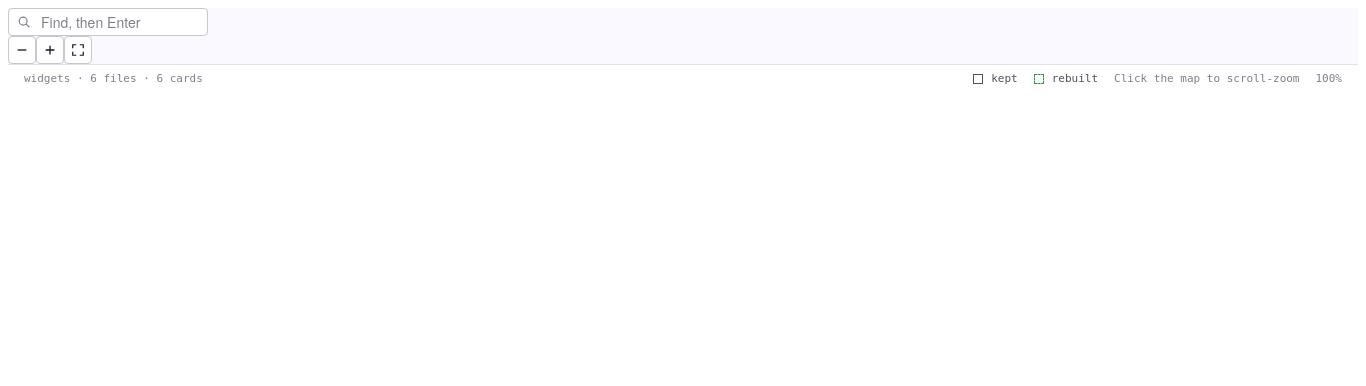
Test: MapScreen › finds a card by name, pins it, and lists what the index recorded about it
In the field named "Find a card": (119, 22) [39,11,199,33], type "web"
Then press Enter
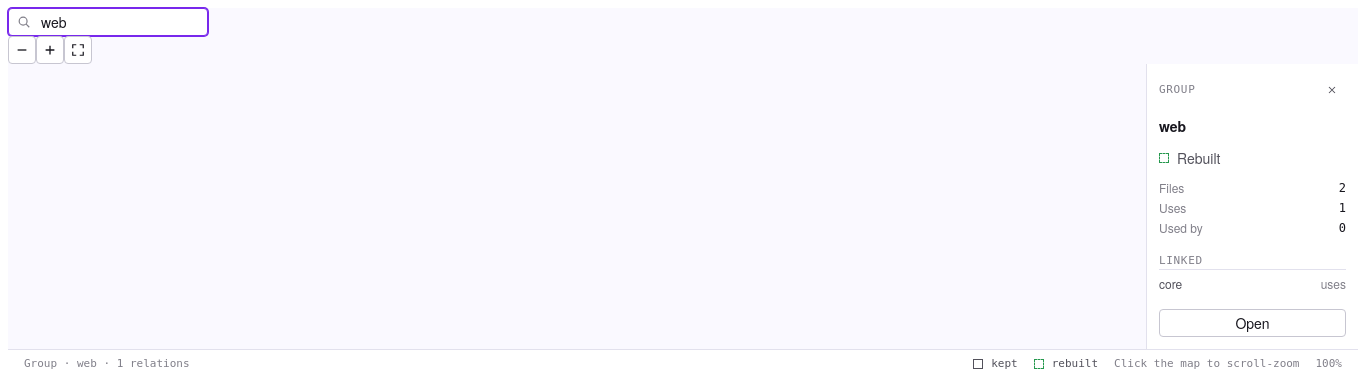
Expected: the heading "web" is shown, [1159,116,1186,136]
Expected: the text "Uses" is shown, [1159,199,1186,216]
Expected: the text "Used by" is shown, [1159,220,1203,236]
